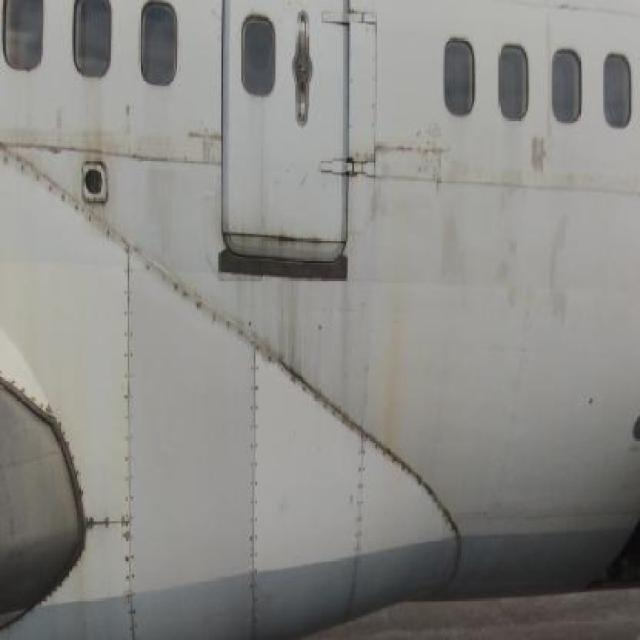Missing-Rivet: (86, 498, 134, 540)
Rust: (378, 247, 409, 473), (331, 266, 367, 432), (269, 268, 314, 386), (230, 215, 342, 257), (77, 79, 114, 164)
Scartch: (445, 173, 580, 342), (378, 127, 453, 185)
